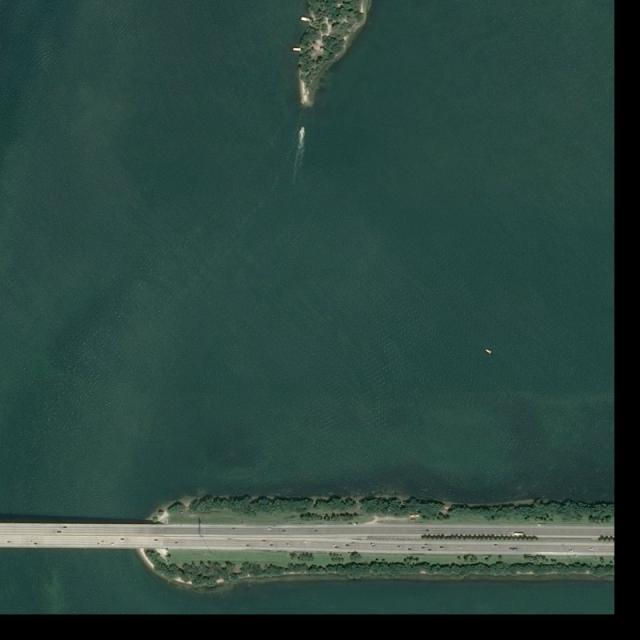ship: (484, 348, 493, 355), (301, 126, 306, 133)
